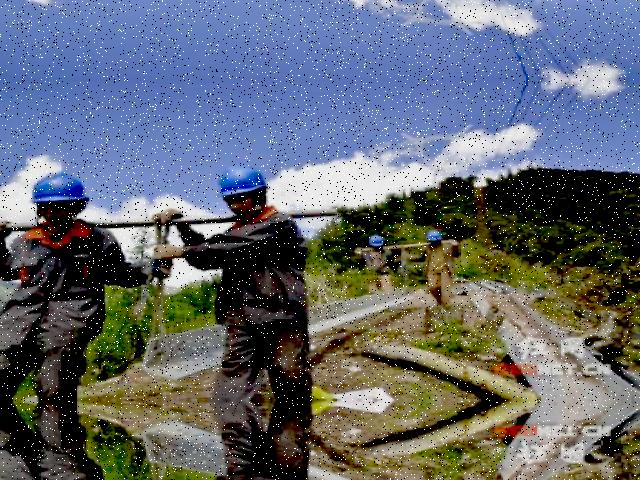Helmet: (22, 168, 91, 212), (209, 160, 270, 206), (420, 224, 444, 247), (366, 230, 381, 247)
